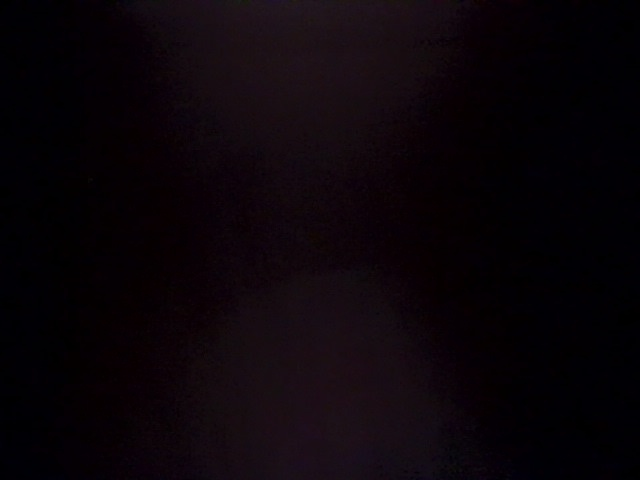KHSLJ: (206, 402, 414, 480)
